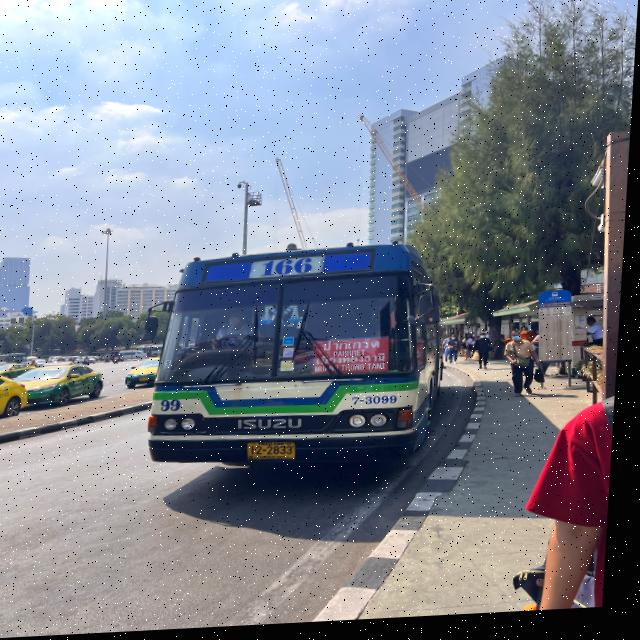BMTA-bus: (153, 248, 448, 474)
Bus Line Number: (256, 259, 330, 280)
Bus Side Number: (352, 394, 407, 417)
Destination Sign: (316, 339, 396, 379)
